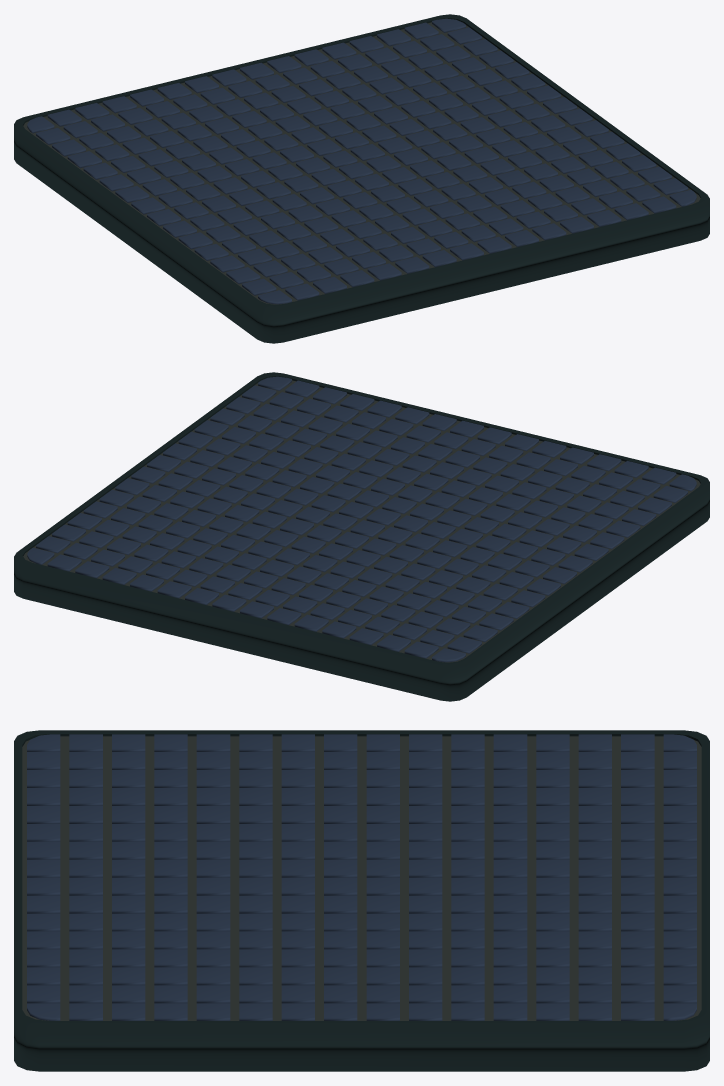
3 views of the same model, one above another, from view 1: azimuth 30°, elevation 25°; view 2: azimuth 150°, elevation 25°; view 3: azimuth 270°, elevation 25° (orthographic). The views are drawn at different scales.
Parts seen in each view (by area): view 1: Cube.002, Cube.003, Cube.001; view 2: Cube.002, Cube.003, Cube.001; view 3: Cube.002, Cube.003, Cube.001.
Boxes of the visible parts, x1,y1,x2,y2 form: Cube.002: (27,18,696,304); Cube.003: (14,14,709,343); Cube.001: (23,22,700,304); Cube.002: (27,376,696,662); Cube.003: (14,372,709,701); Cube.001: (23,380,700,662); Cube.002: (27,734,696,1020); Cube.003: (14,730,709,1071); Cube.001: (22,736,701,1020).
Size of the model in its own units: 3.25 by 0.2519 by 3.25.
